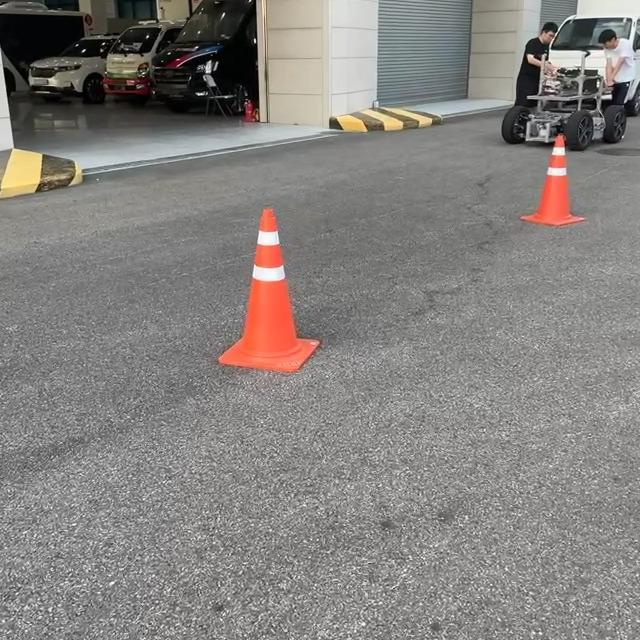fallen_object: (225, 179, 346, 399), (462, 133, 620, 256)
